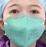with_mask: (2, 2, 46, 47)
